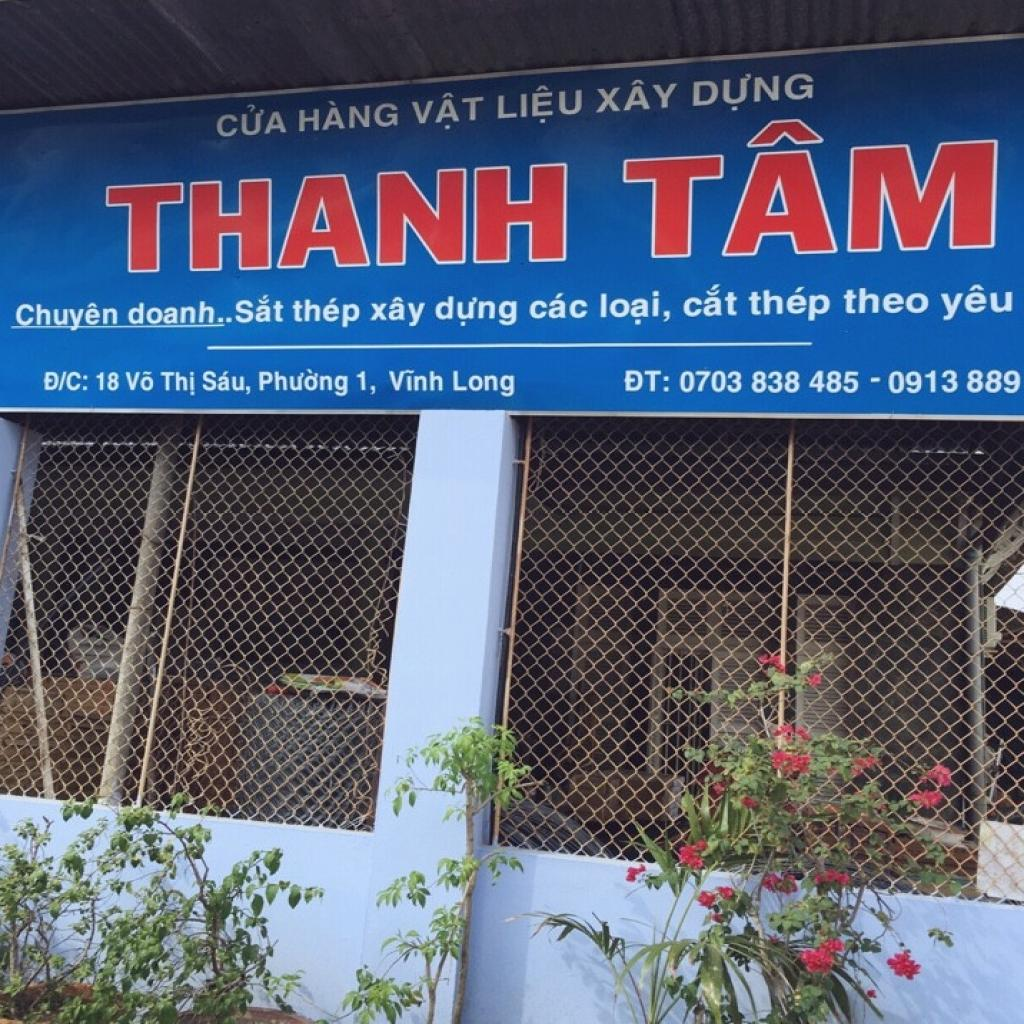text: (614, 112, 1002, 260), (104, 161, 570, 274), (689, 68, 818, 117), (681, 369, 861, 397), (493, 81, 588, 126), (594, 74, 685, 116), (296, 97, 400, 133), (13, 301, 120, 335), (406, 90, 488, 134), (938, 283, 1017, 323), (750, 287, 832, 325), (214, 101, 292, 140), (432, 295, 518, 330), (841, 286, 931, 318), (599, 290, 674, 328), (258, 370, 350, 400), (126, 300, 220, 329), (292, 295, 362, 331), (681, 283, 741, 319), (369, 296, 428, 330), (452, 370, 518, 400), (526, 293, 591, 321), (232, 293, 288, 325), (202, 369, 253, 397), (388, 369, 446, 393), (621, 369, 672, 394), (42, 369, 90, 394), (160, 369, 198, 397), (123, 369, 159, 394), (94, 369, 123, 394), (356, 369, 379, 397)
